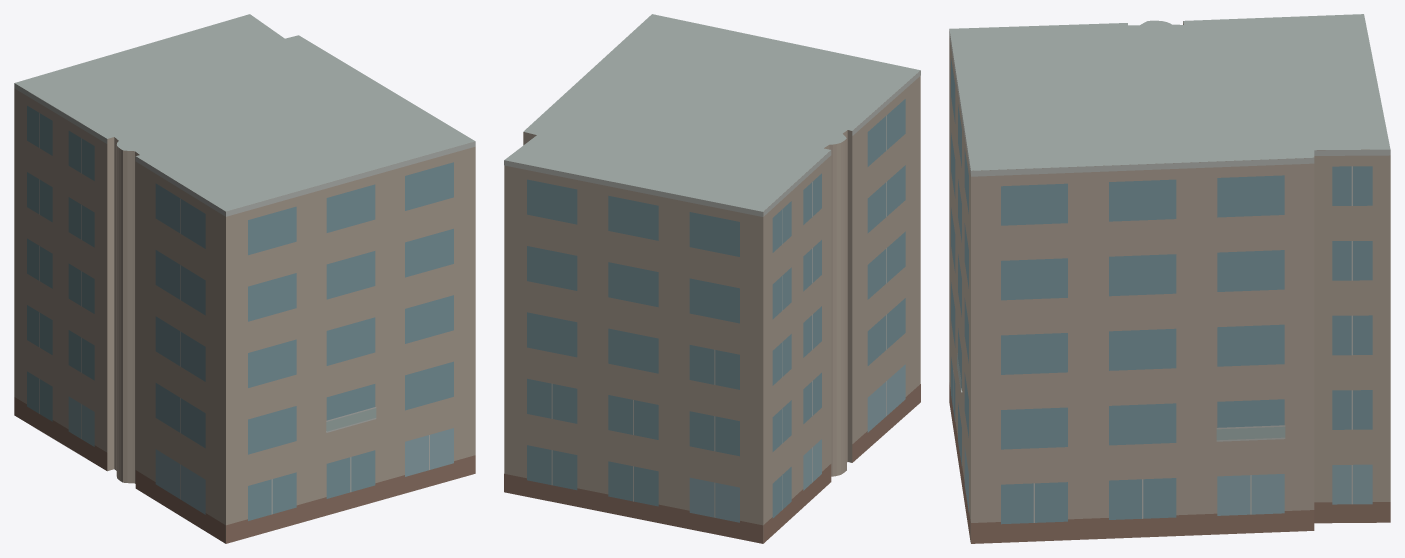
The model's file is survey-upis-32731939.glb.
The picture shows the model from 3 angles, left to right: view 1: azimuth 30°, elevation 25°; view 2: azimuth 150°, elevation 25°; view 3: azimuth 270°, elevation 25°; orthographic projection. The views are drawn at different scales.
Parts seen in each view (by area): view 1: survey-upis-32731939.tmp; view 2: survey-upis-32731939.tmp; view 3: survey-upis-32731939.tmp.
Part boxes in pixels (bbox=[...]): survey-upis-32731939.tmp: bbox=[14, 14, 475, 543]; survey-upis-32731939.tmp: bbox=[504, 14, 920, 543]; survey-upis-32731939.tmp: bbox=[949, 14, 1390, 543].
Bounding box in the file's own units: 13.89 × 15.4 × 16.52.
